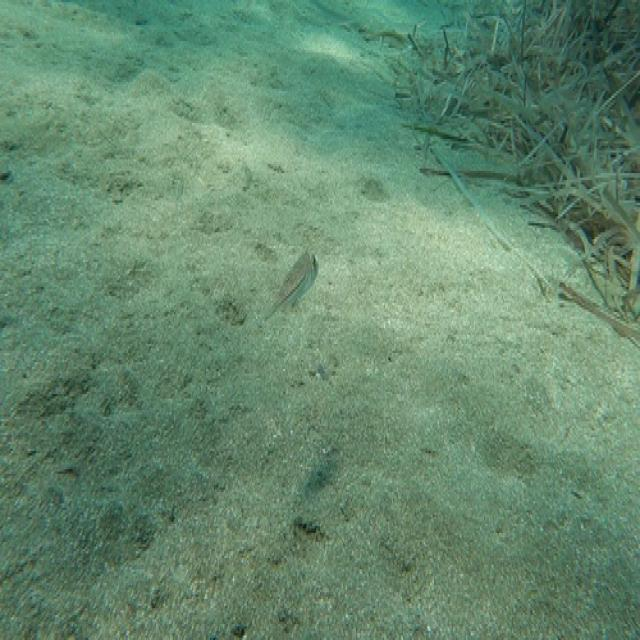Balik: (267, 253, 318, 318)
